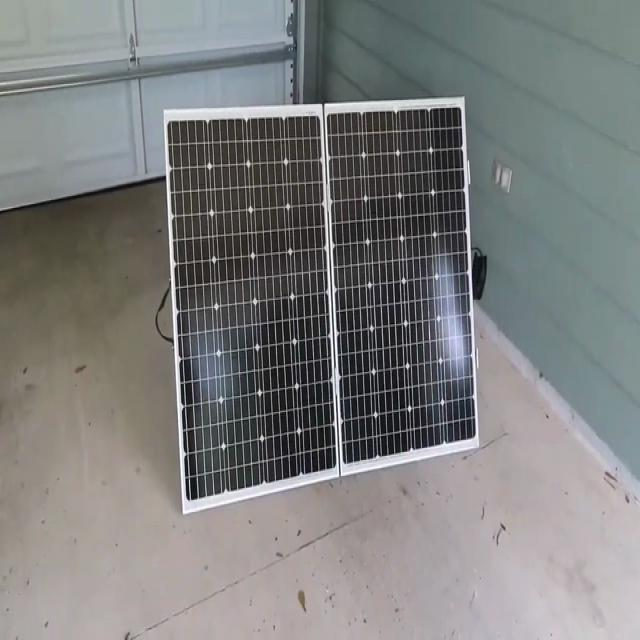Normal Solar Panel: (165, 99, 480, 513)
